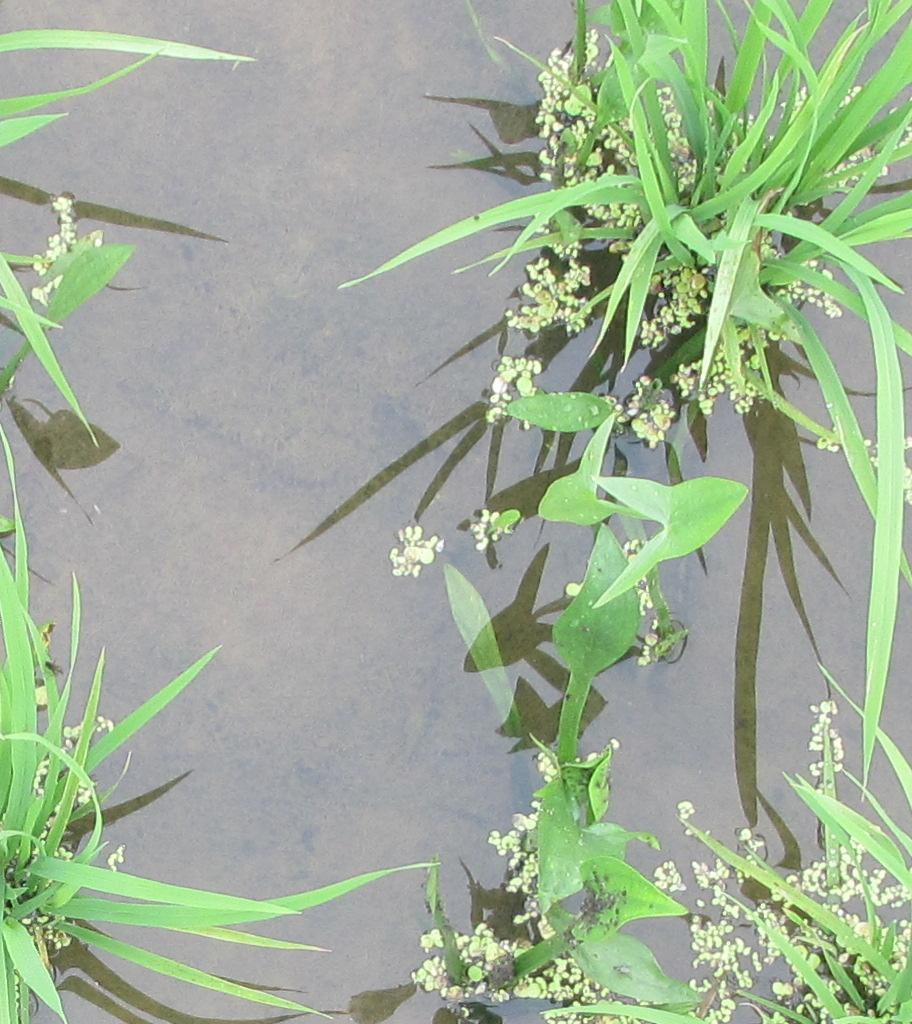Weed: (502, 653, 677, 927), (536, 419, 753, 574)
